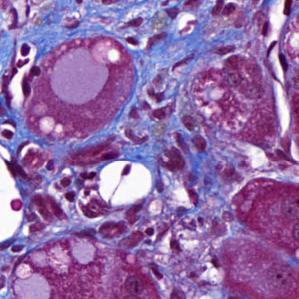ballooning: (96, 158, 155, 210)
